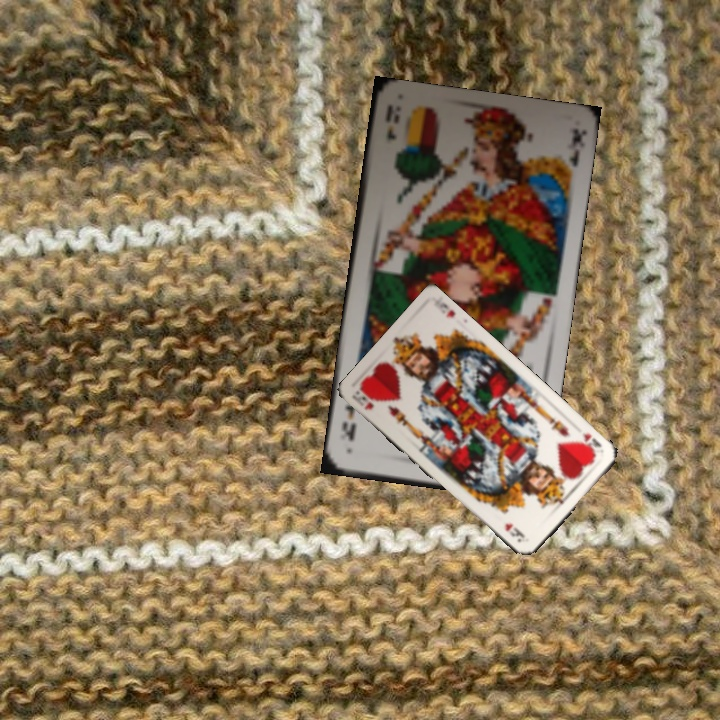EK: (381, 103, 399, 143)
HK: (576, 428, 604, 458), (348, 385, 376, 413)
